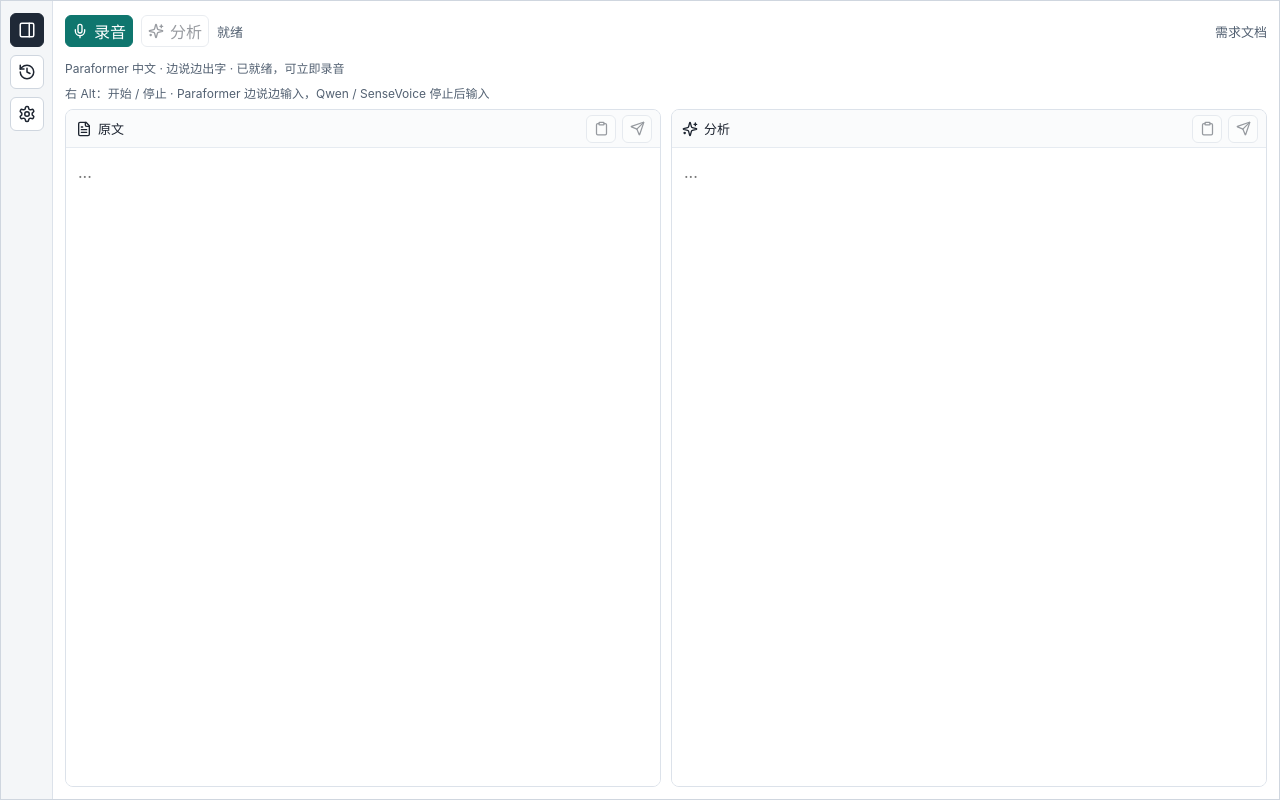
Test case: model selection and live recording › keeps the usable transcript when history storage fails
Click the button "录音".
click(99, 31)  # box [65,15,133,47]
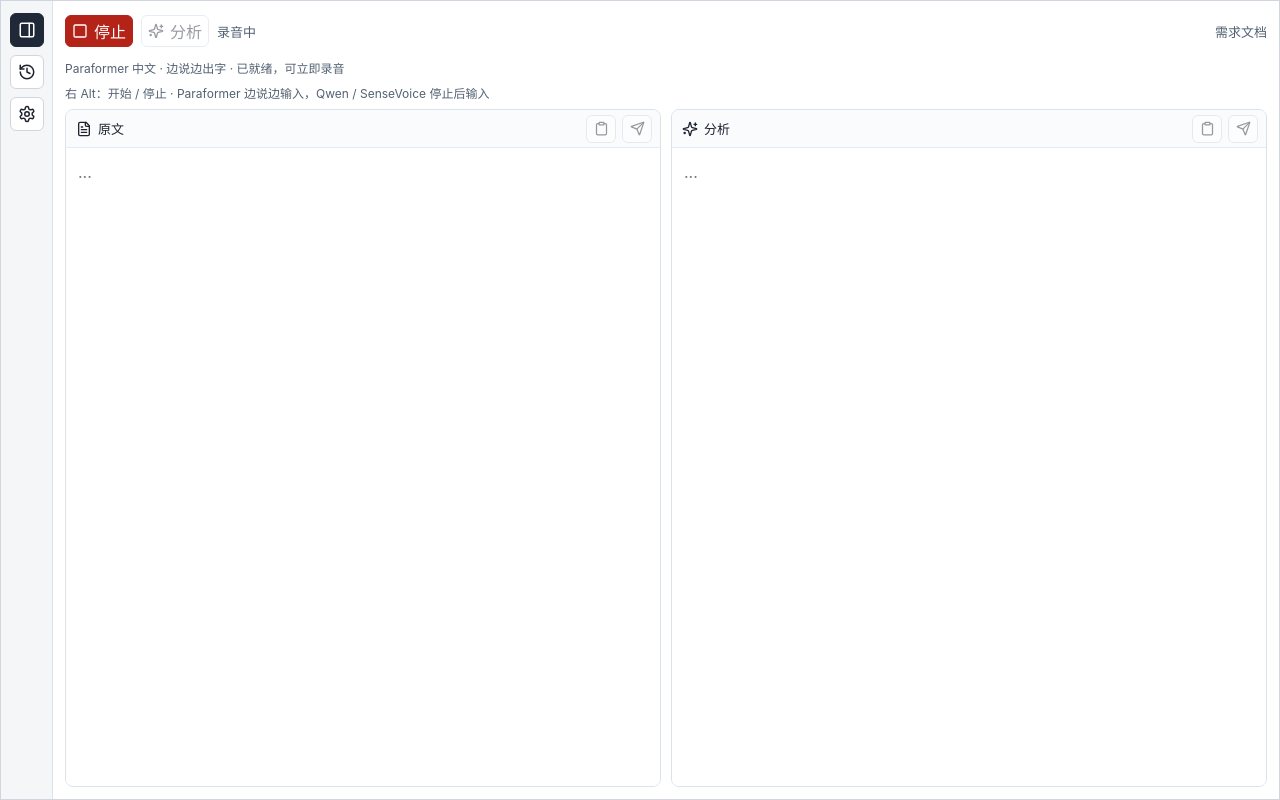
Click the button "停止".
click(99, 31)  # box [65,15,133,47]
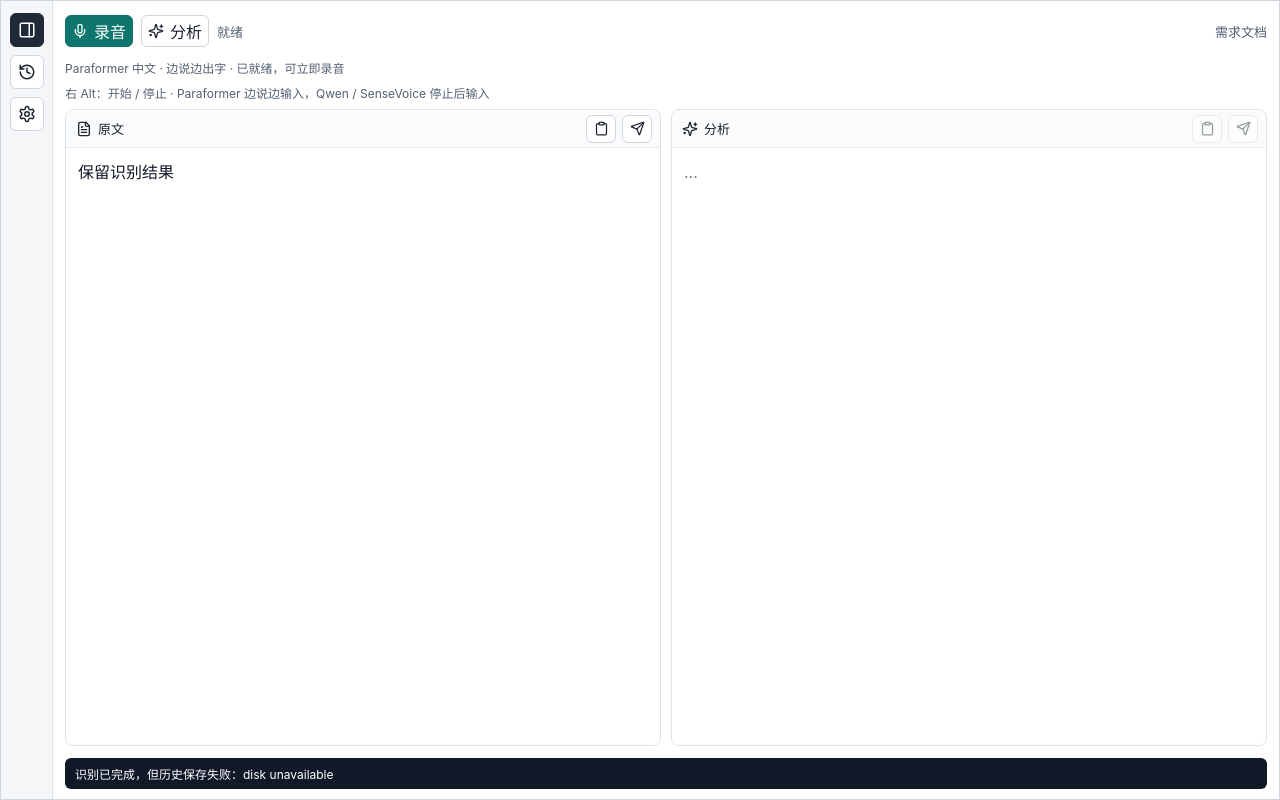
Now the 1st text box holds "保留识别结果", box [66,148,660,745]
Now the text "历史保存失败" is shown, box [75,767,334,782]
